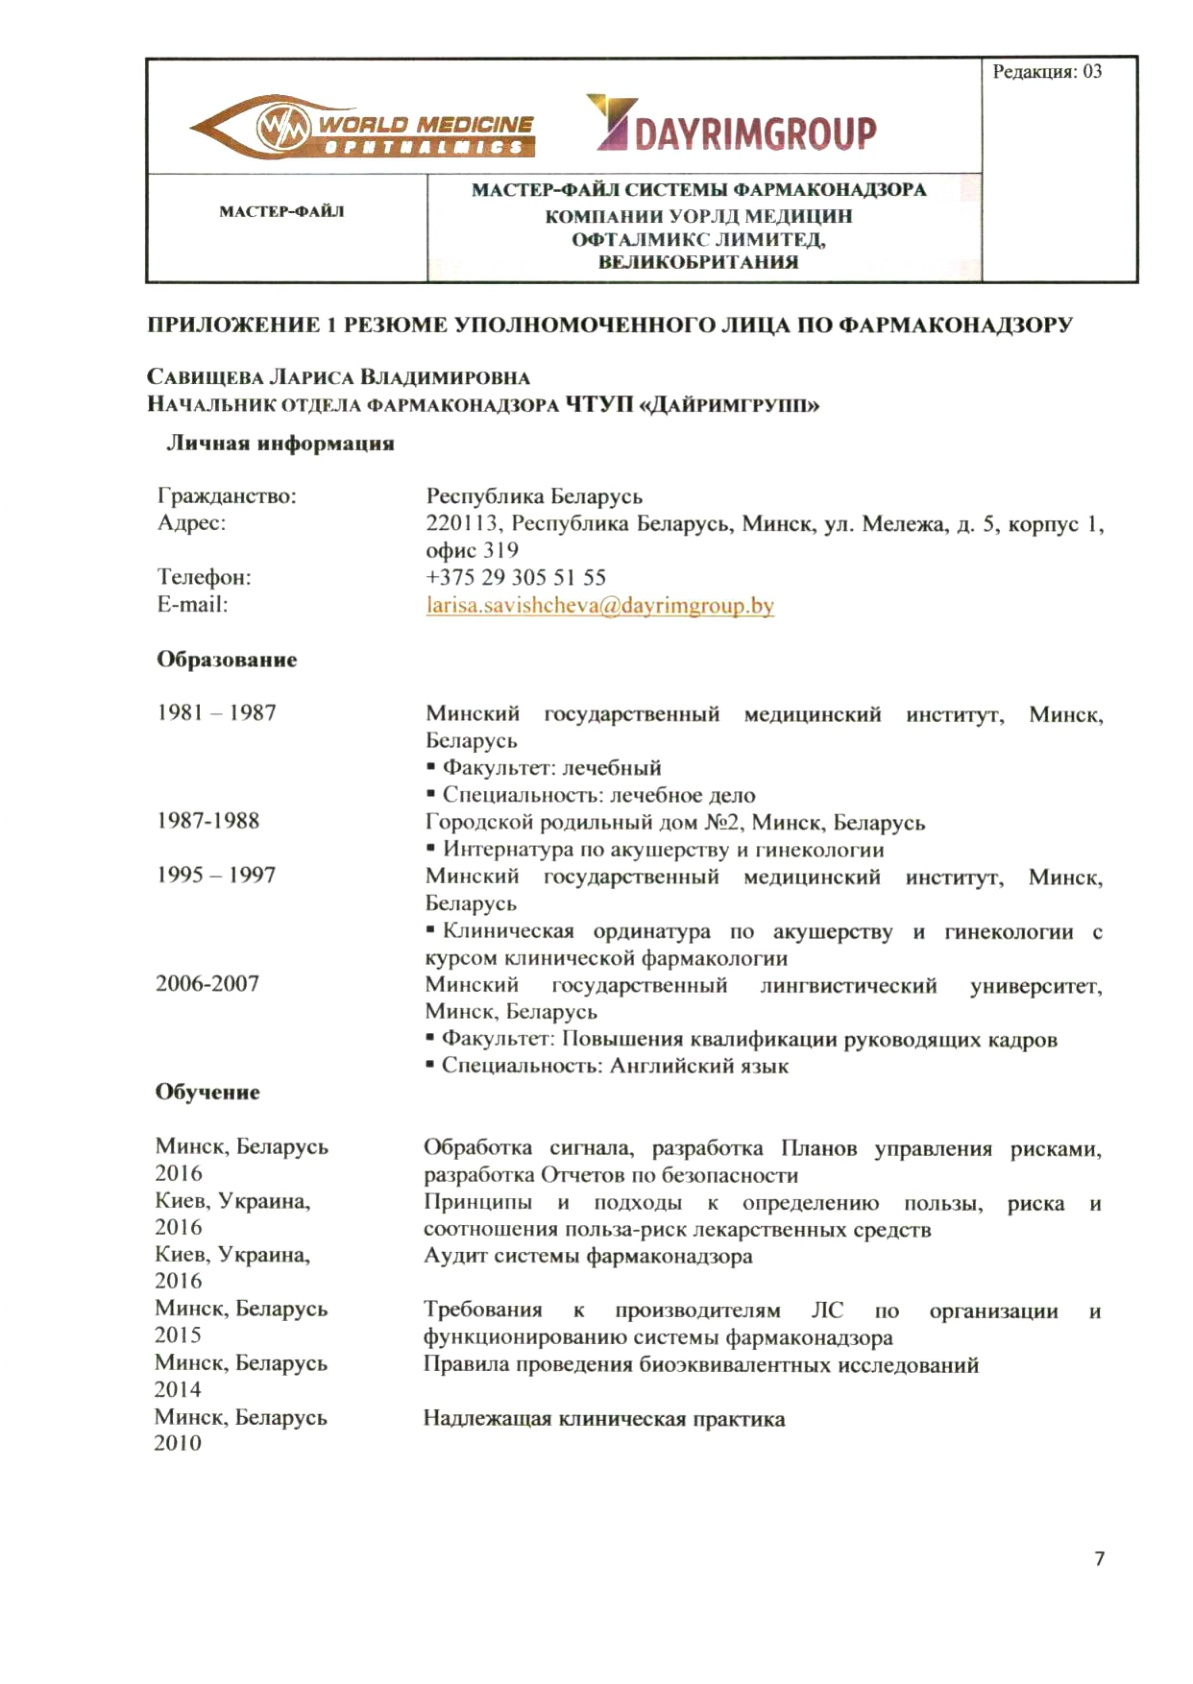merged_cells: (143, 56, 1141, 285)
nolines: (146, 480, 1116, 1461)
